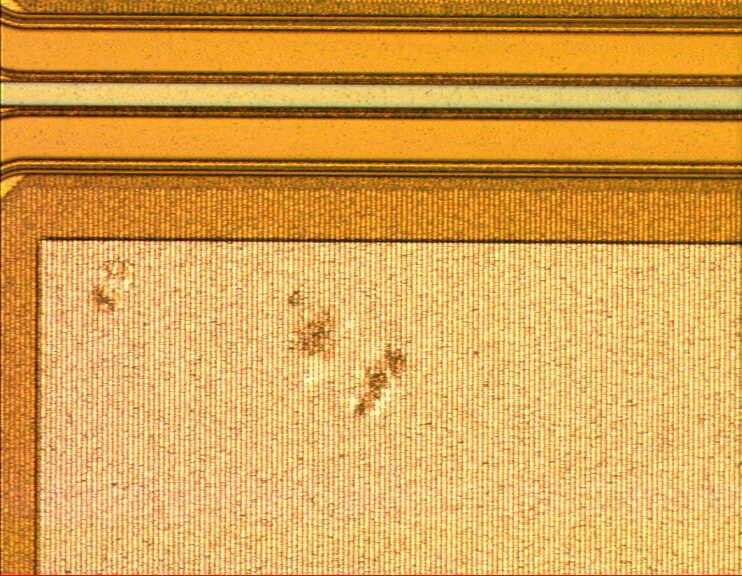SCRATCH: (82, 254, 420, 427)
